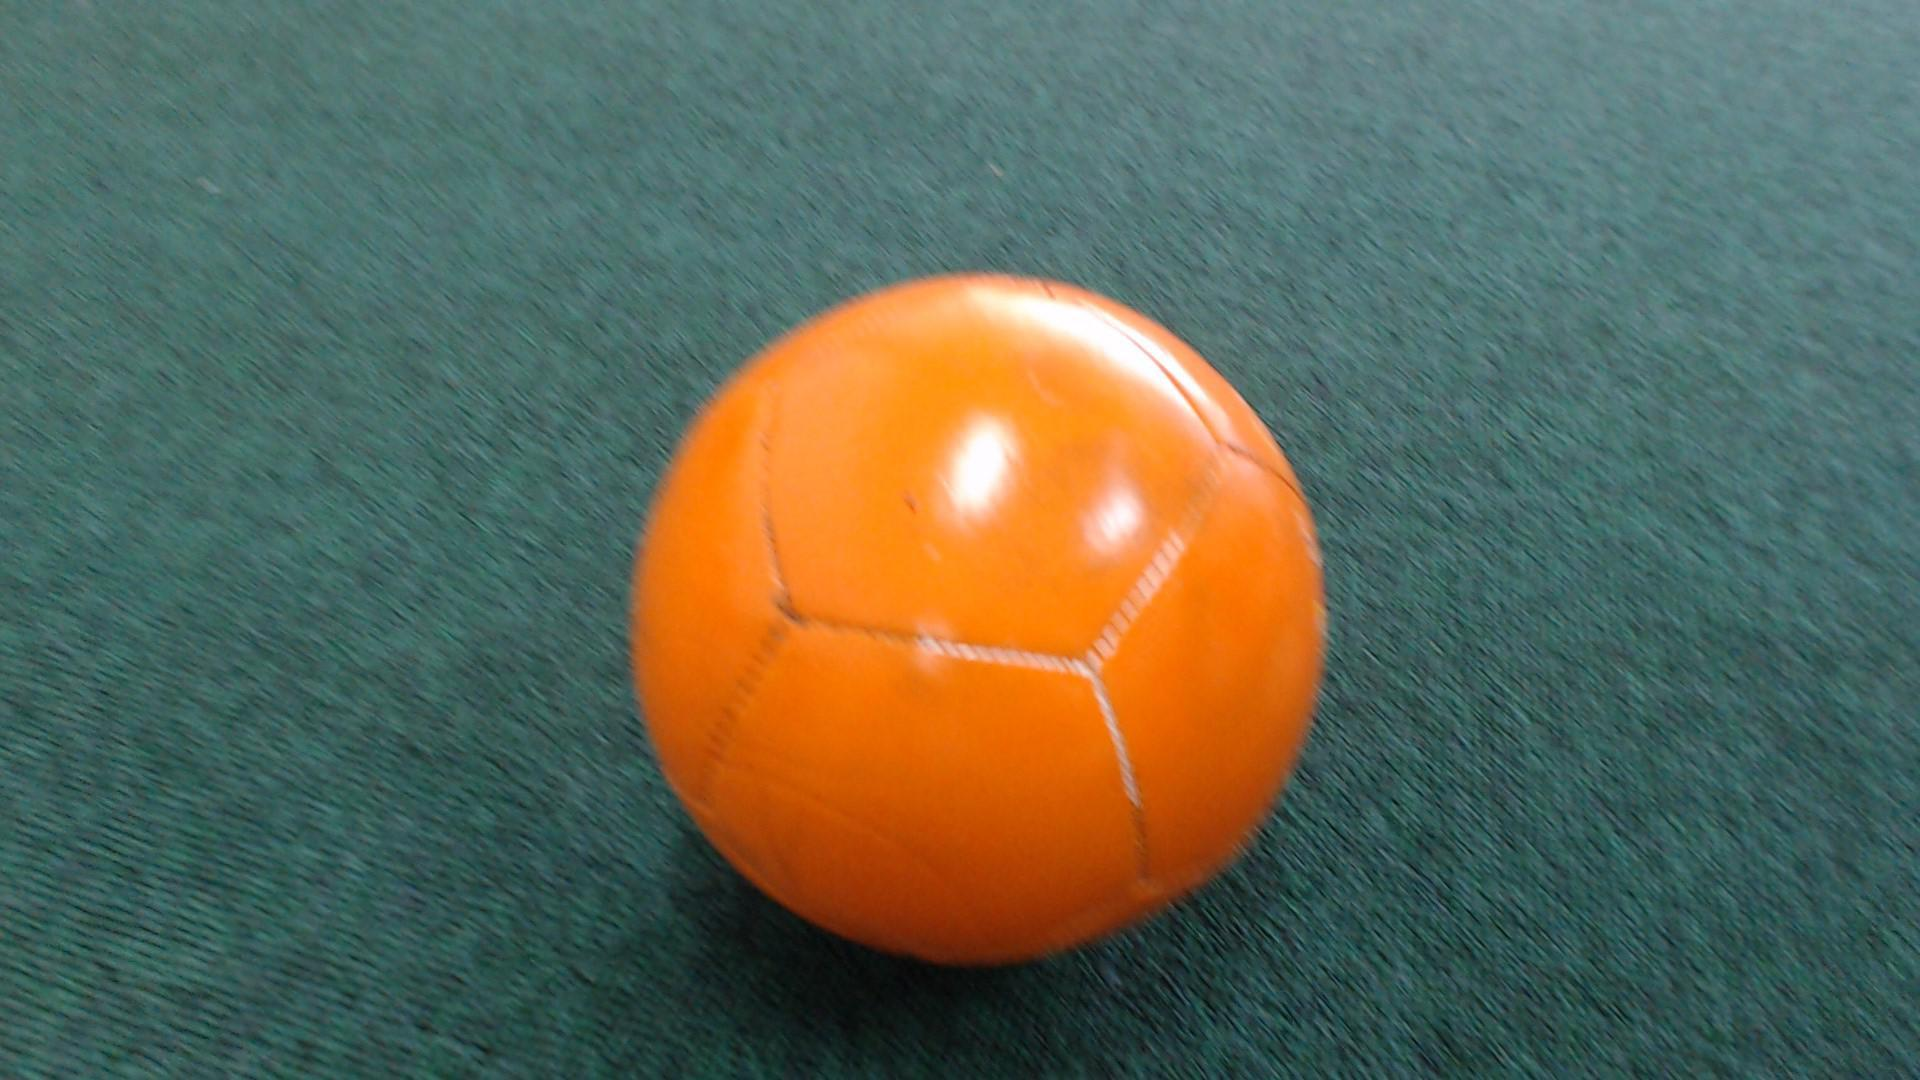bola: (588, 269, 1381, 988)
